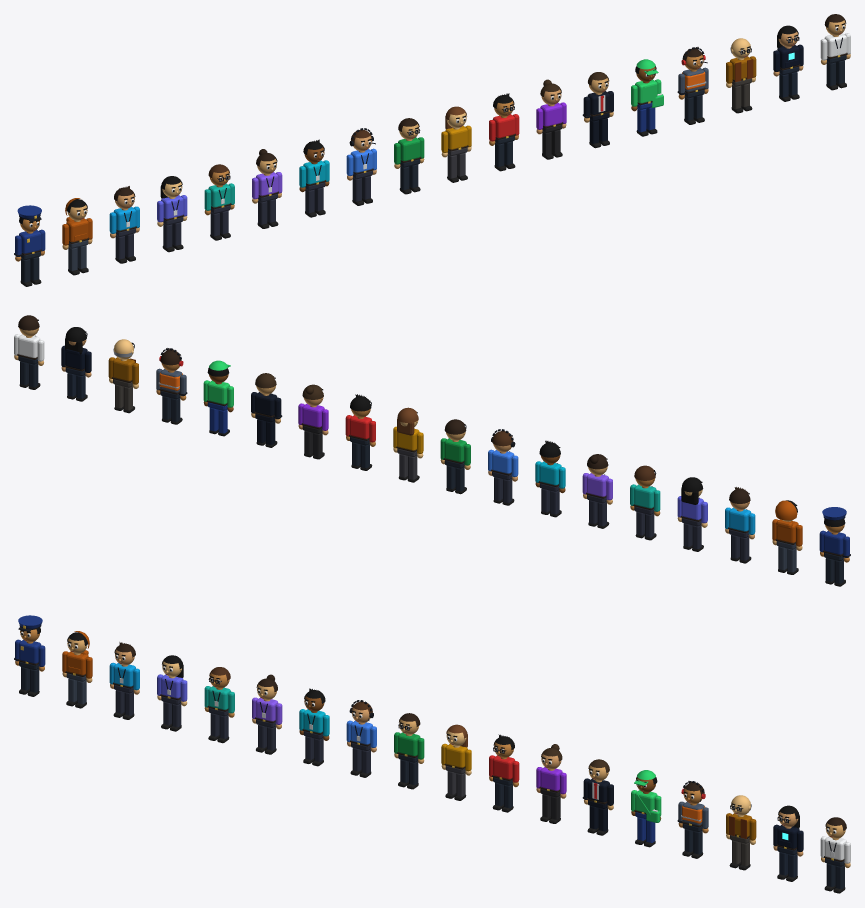
The model's file is agents.glb.
The picture shows the model from 3 angles, top to bottom: view 1: azimuth 30°, elevation 25°; view 2: azimuth 150°, elevation 25°; view 3: azimuth 330°, elevation 25°; orthographic projection.
Visible parts, largest first — view 1: courier_torso, archivist_torso, hunter_torso, smc_torso, macd_torso, scanner2_torso, scanner4_torso, guard_torso, tech_torso, scanner5_torso, scalp_torso, manager_torso (+7 smaller); view 2: archivist_torso, smc_torso, courier_torso, scanner4_torso, macd_torso, guard_torso, tech_torso, hunter_torso, scanner5_torso, scalp_torso, player_torso, scanner6_torso (+4 smaller); view 3: courier_torso, hunter_torso, scanner3_torso, tech_torso, archivist_torso, scanner1_torso, scanner6_torso, manager_torso, player_torso, scanner4_torso, donalt_torso, macd_torso (+7 smaller).
Part boxes in pixels (<box>): courier_torso: <box>635,79,663,109</box>; archivist_torso: <box>729,56,753,86</box>; hunter_torso: <box>66,217,89,248</box>; smc_torso: <box>398,137,421,167</box>; macd_torso: <box>492,114,515,144</box>; scanner2_torso: <box>161,195,184,225</box>; scanner4_torso: <box>256,172,278,202</box>; guard_torso: <box>19,229,41,260</box>; tech_torso: <box>682,68,706,98</box>; scanner5_torso: <box>303,160,326,190</box>; scalp_torso: <box>540,102,563,132</box>; manager_torso: <box>587,91,610,121</box>; archivist_torso: <box>112,357,135,387</box>; smc_torso: <box>443,438,466,468</box>; courier_torso: <box>206,380,229,410</box>; scanner4_torso: <box>586,473,608,503</box>; macd_torso: <box>349,415,372,445</box>; guard_torso: <box>823,530,845,561</box>; tech_torso: <box>158,369,182,399</box>; hunter_torso: <box>775,519,798,549</box>; scanner5_torso: <box>538,461,561,491</box>; scalp_torso: <box>301,403,324,433</box>; player_torso: <box>17,334,40,364</box>; scanner6_torso: <box>491,450,514,480</box>; courier_torso: <box>634,790,660,822</box>; hunter_torso: <box>65,650,88,681</box>; scanner3_torso: <box>207,686,230,716</box>; tech_torso: <box>681,802,704,831</box>; archivist_torso: <box>729,813,752,843</box>; scanner1_torso: <box>113,663,135,693</box>; scanner6_torso: <box>350,720,372,750</box>; manager_torso: <box>587,778,609,808</box>; player_torso: <box>824,836,846,866</box>; scanner4_torso: <box>255,697,278,727</box>; donalt_torso: <box>444,744,467,774</box>; macd_torso: <box>492,755,515,785</box>.
Bounding box in the file's own units: 28.19 × 2.38 × 0.7995.
